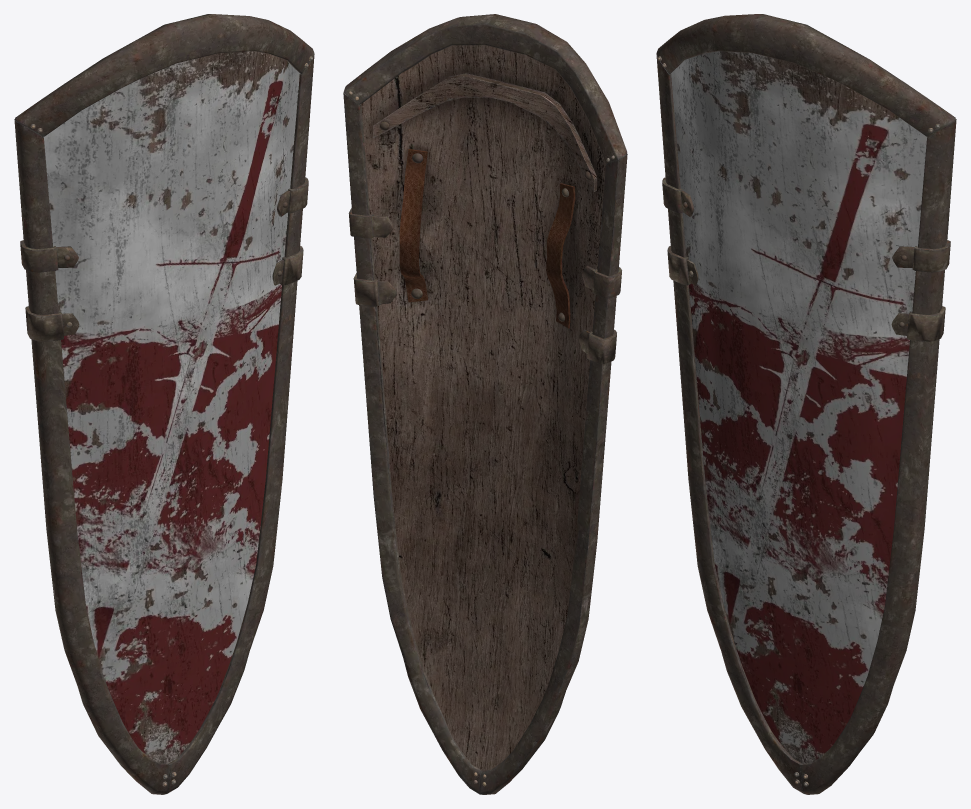
The model's file is kite_shield.glb.
3 views of the same model, side by side, from view 1: azimuth 30°, elevation 25°; view 2: azimuth 150°, elevation 25°; view 3: azimuth 330°, elevation 25° (orthographic). The views are drawn at different scales.
Parts seen in each view (by area): view 1: kite_shield_body, kite_shield_metal_trim, kite_shield_clamps_and_bolts; view 2: kite_shield_body, kite_shield_metal_trim, kite_shield_clamps_and_bolts; view 3: kite_shield_body, kite_shield_metal_trim, kite_shield_clamps_and_bolts.
Boxes of the visible parts, <box> form: kite_shield_body: <box>43,51,300,764</box>; kite_shield_metal_trim: <box>14,14,314,794</box>; kite_shield_clamps_and_bolts: <box>20,56,312,786</box>; kite_shield_body: <box>361,45,606,770</box>; kite_shield_metal_trim: <box>343,14,627,794</box>; kite_shield_clamps_and_bolts: <box>348,91,621,786</box>; kite_shield_body: <box>671,51,927,763</box>; kite_shield_metal_trim: <box>656,14,956,794</box>; kite_shield_clamps_and_bolts: <box>658,56,950,786</box>.
Size of the model in its own units: 0.5433 by 1.39 by 0.1347.
Materials: 2 (2 with a texture image).
